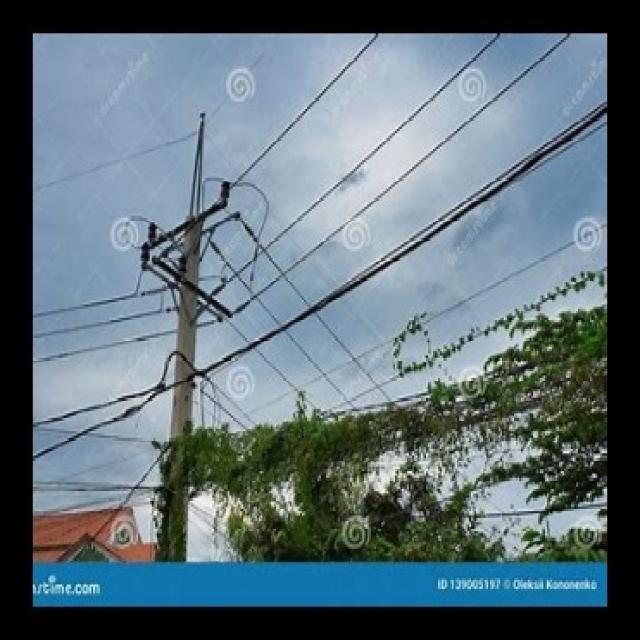critical vegetation: (181, 349, 602, 506)
